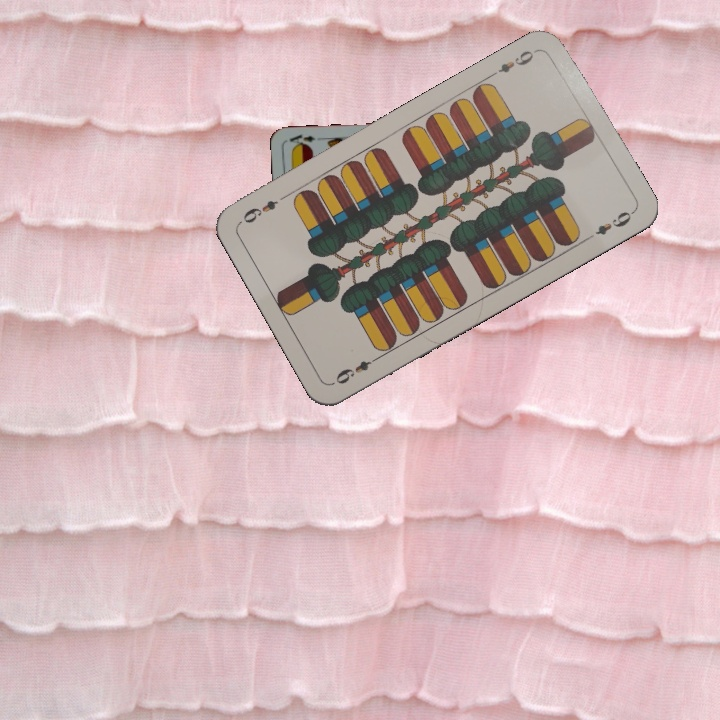E9: (329, 351, 383, 387), (488, 44, 543, 79)
